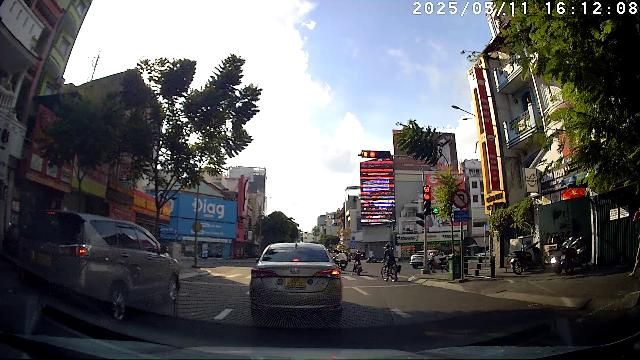123a-cam-re-trai: (452, 188, 470, 209)
